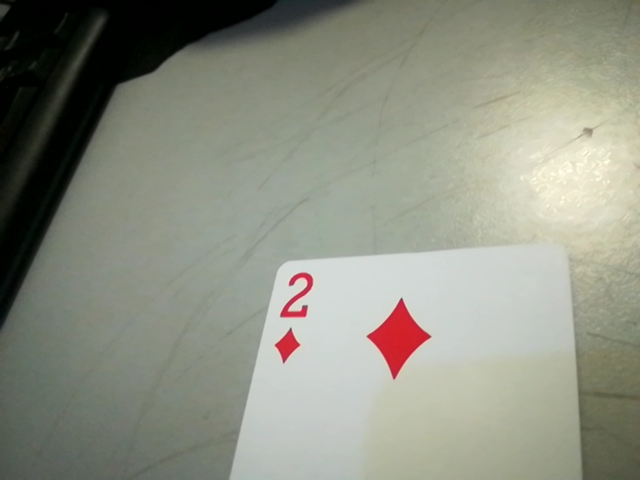fk 2: (264, 264, 325, 370)
